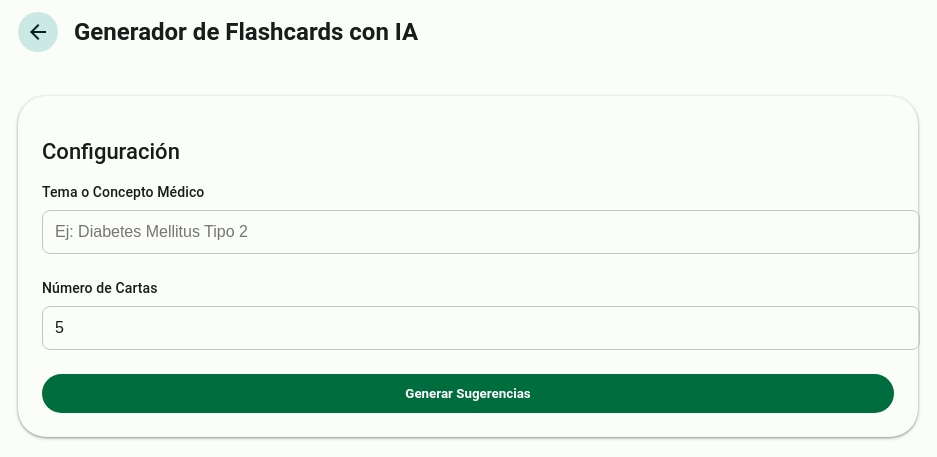
it: V2AIFlashcardGenerator › generates suggestions on form submit
In the field with placeholder "Ej: Diabetes Mellitus Tipo 2": (481, 232) [42,210,920,254], type "Diabetes"
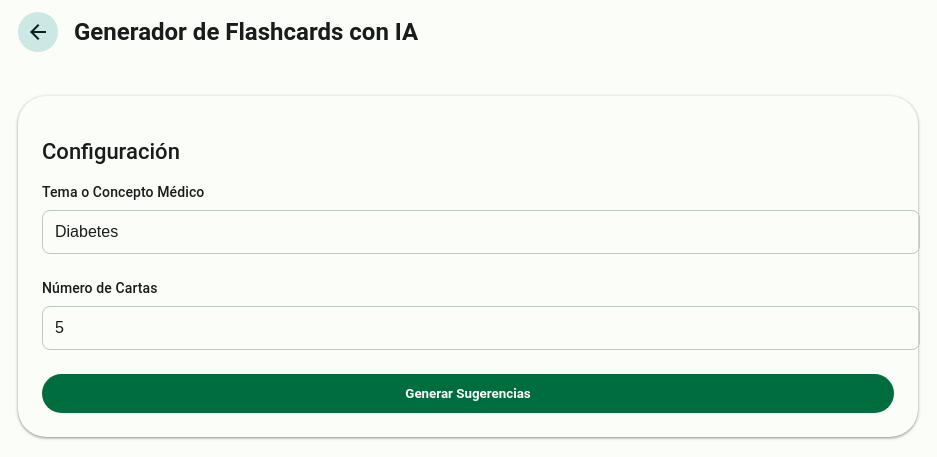
Click the button "Generar Sugerencias": (468, 394) [42,374,894,413]
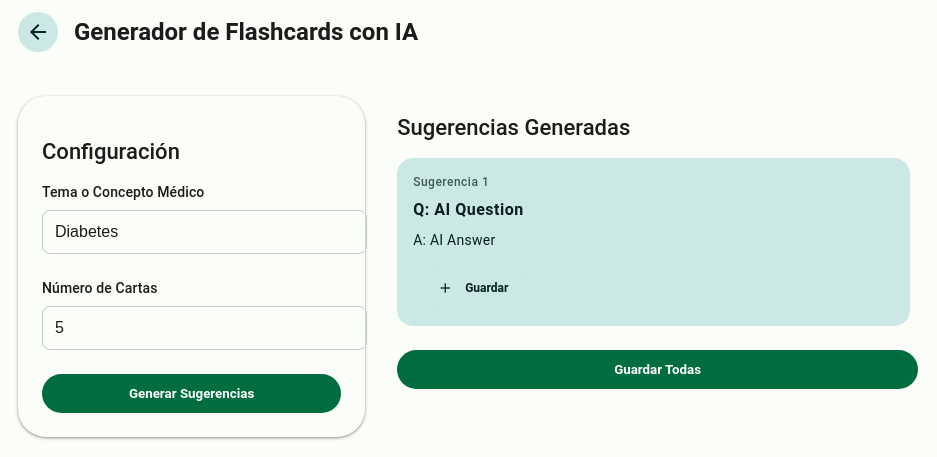
Result: the text "Q: AI Question" is shown at [413,200,524,219]
Result: the text "A: AI Answer" is shown at [413,232,495,248]
